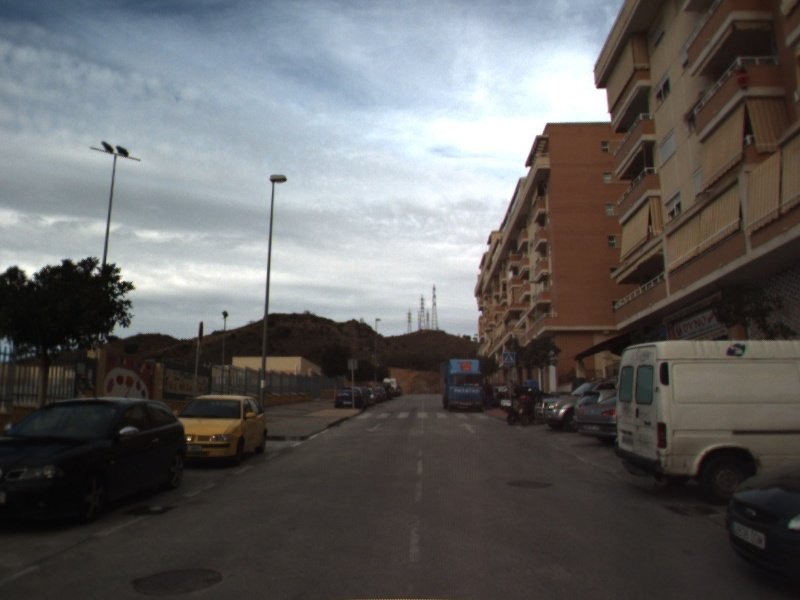STRAIGHT: (457, 420, 479, 435)
